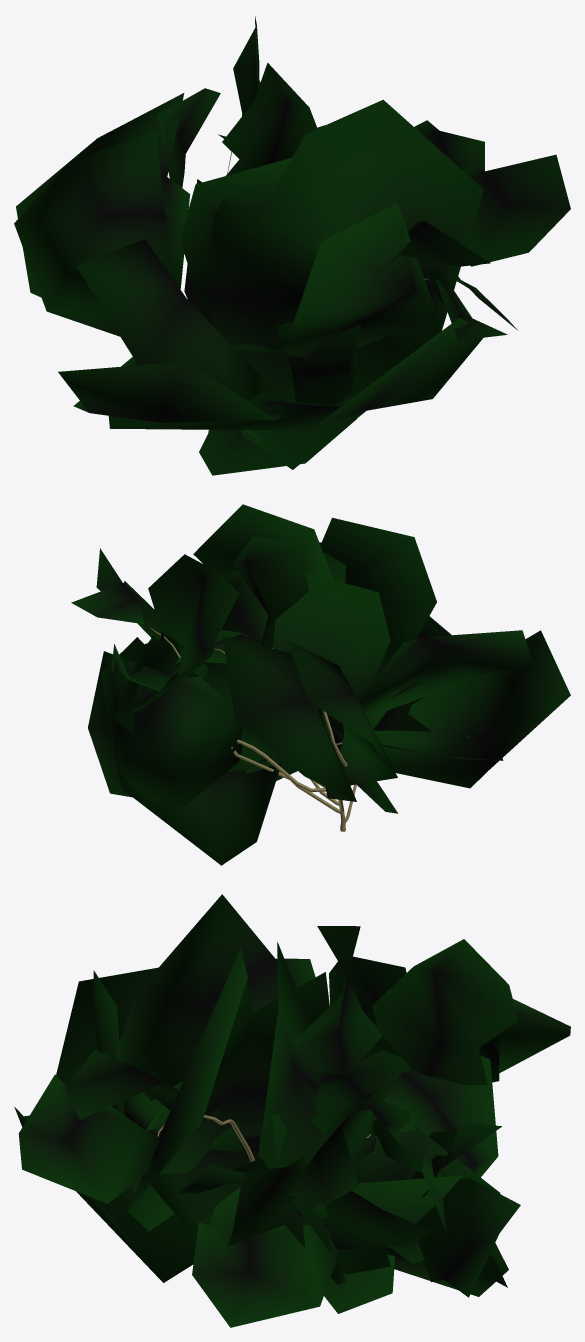
Rendered from RoseBushBigDryRHEP_B.fbx.
The picture shows the model from 3 angles, top to bottom: view 1: azimuth 30°, elevation 25°; view 2: azimuth 150°, elevation 25°; view 3: azimuth 270°, elevation 25°; orthographic projection. The views are drawn at different scales.
Visible parts, largest first — view 1: RBBDRHEPB-Leaves_LOD0; view 2: RBBDRHEPB-Leaves_LOD0, RBBDRHEPB-Branches_LOD0; view 3: RBBDRHEPB-Leaves_LOD0.
Boxes of the visible parts, left/top/right/bottom form: RBBDRHEPB-Leaves_LOD0: left=14, top=16, right=570, bottom=475; RBBDRHEPB-Leaves_LOD0: left=71, top=504, right=570, bottom=865; RBBDRHEPB-Branches_LOD0: left=148, top=625, right=356, bottom=831; RBBDRHEPB-Leaves_LOD0: left=14, top=894, right=570, bottom=1327.
Size of what is drawn, in the model's own units: 3.29 by 2.06 by 2.7.
